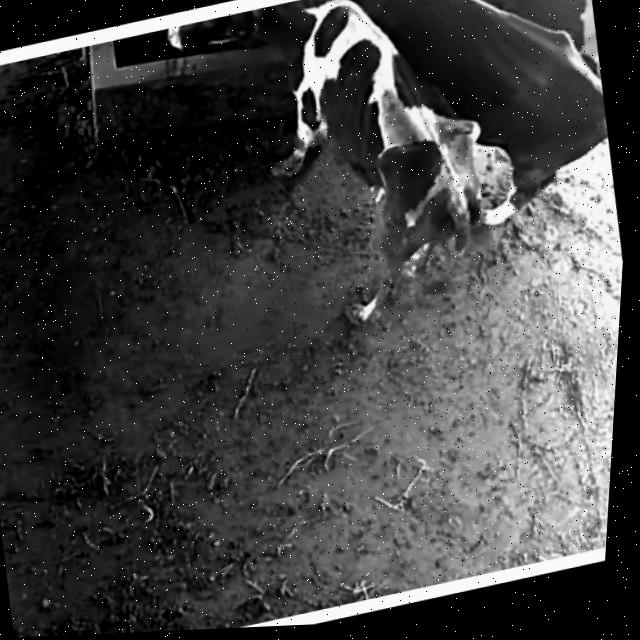drink: (135, 0, 303, 88), (258, 0, 401, 35)
